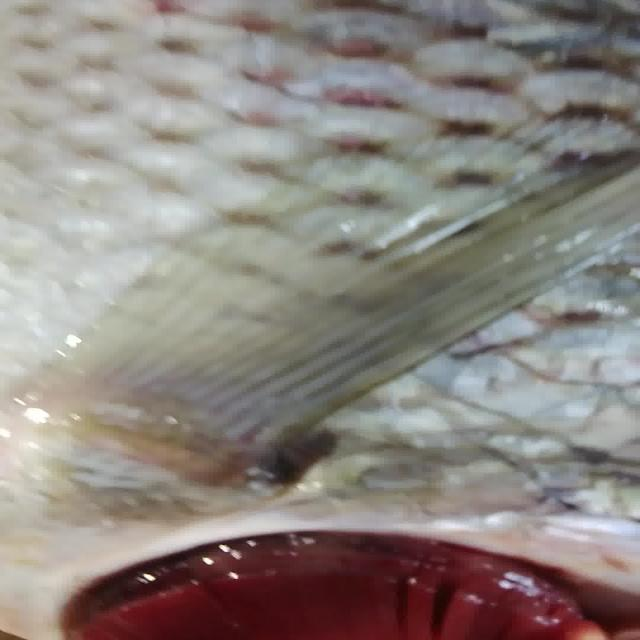Fresh: (61, 531, 613, 640)
